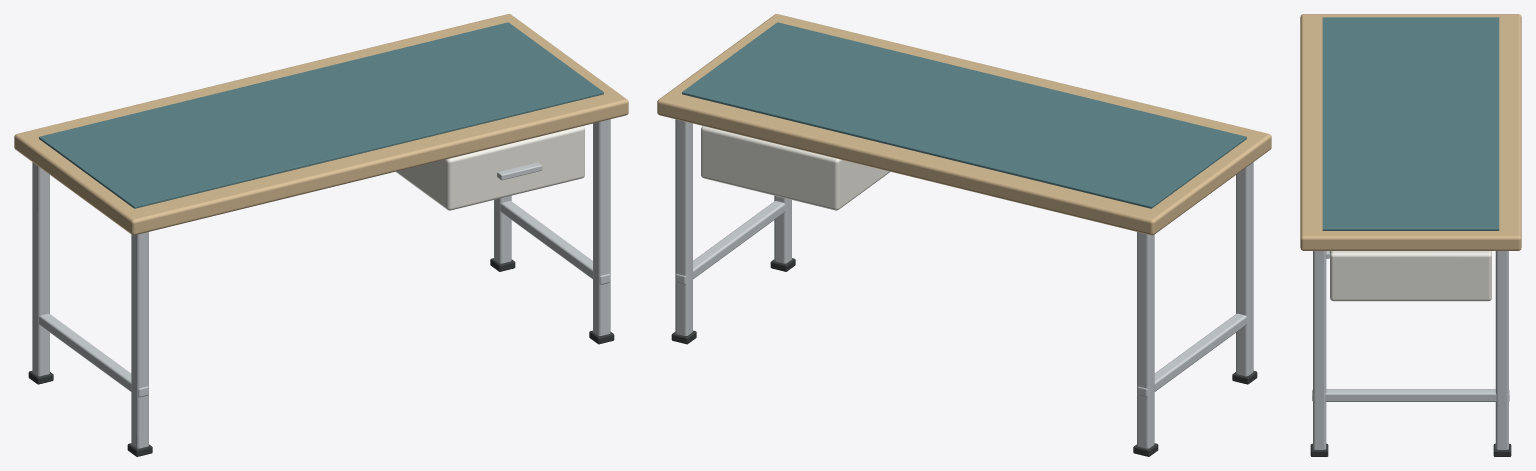
File: candlemaking-and-soap-workshop-candle-finishing-bench-5d79f68b__30668.glb
3 renders of one model, left to right at view 1: azimuth 30°, elevation 25°; view 2: azimuth 150°, elevation 25°; view 3: azimuth 270°, elevation 25°, orthographic. The views are drawn at different scales.
Visible parts, largest first — view 1: candle-finishing-bench; view 2: candle-finishing-bench; view 3: candle-finishing-bench.
Boxes of the visible parts, x1=… form: candle-finishing-bench: x1=14, y1=14, x2=628, y2=456; candle-finishing-bench: x1=657, y1=14, x2=1271, y2=456; candle-finishing-bench: x1=1300, y1=14, x2=1521, y2=456.
Bounding box in the file's own units: 1.8 × 0.848 × 0.75.
